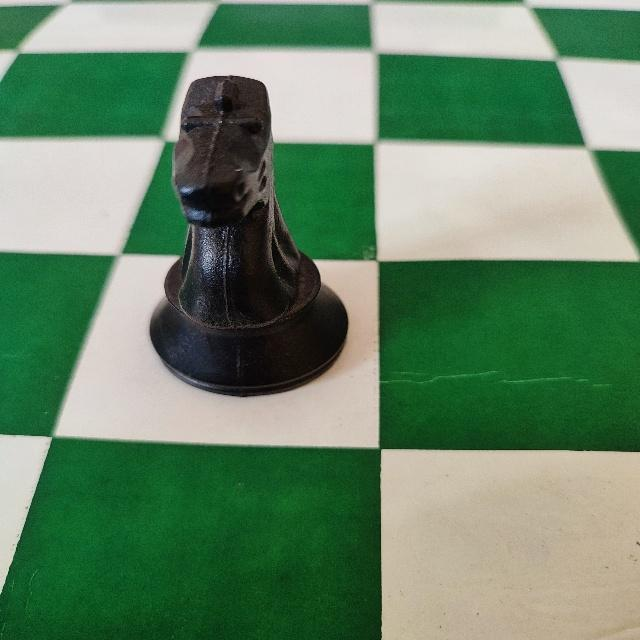Knight: (142, 71, 360, 400)
